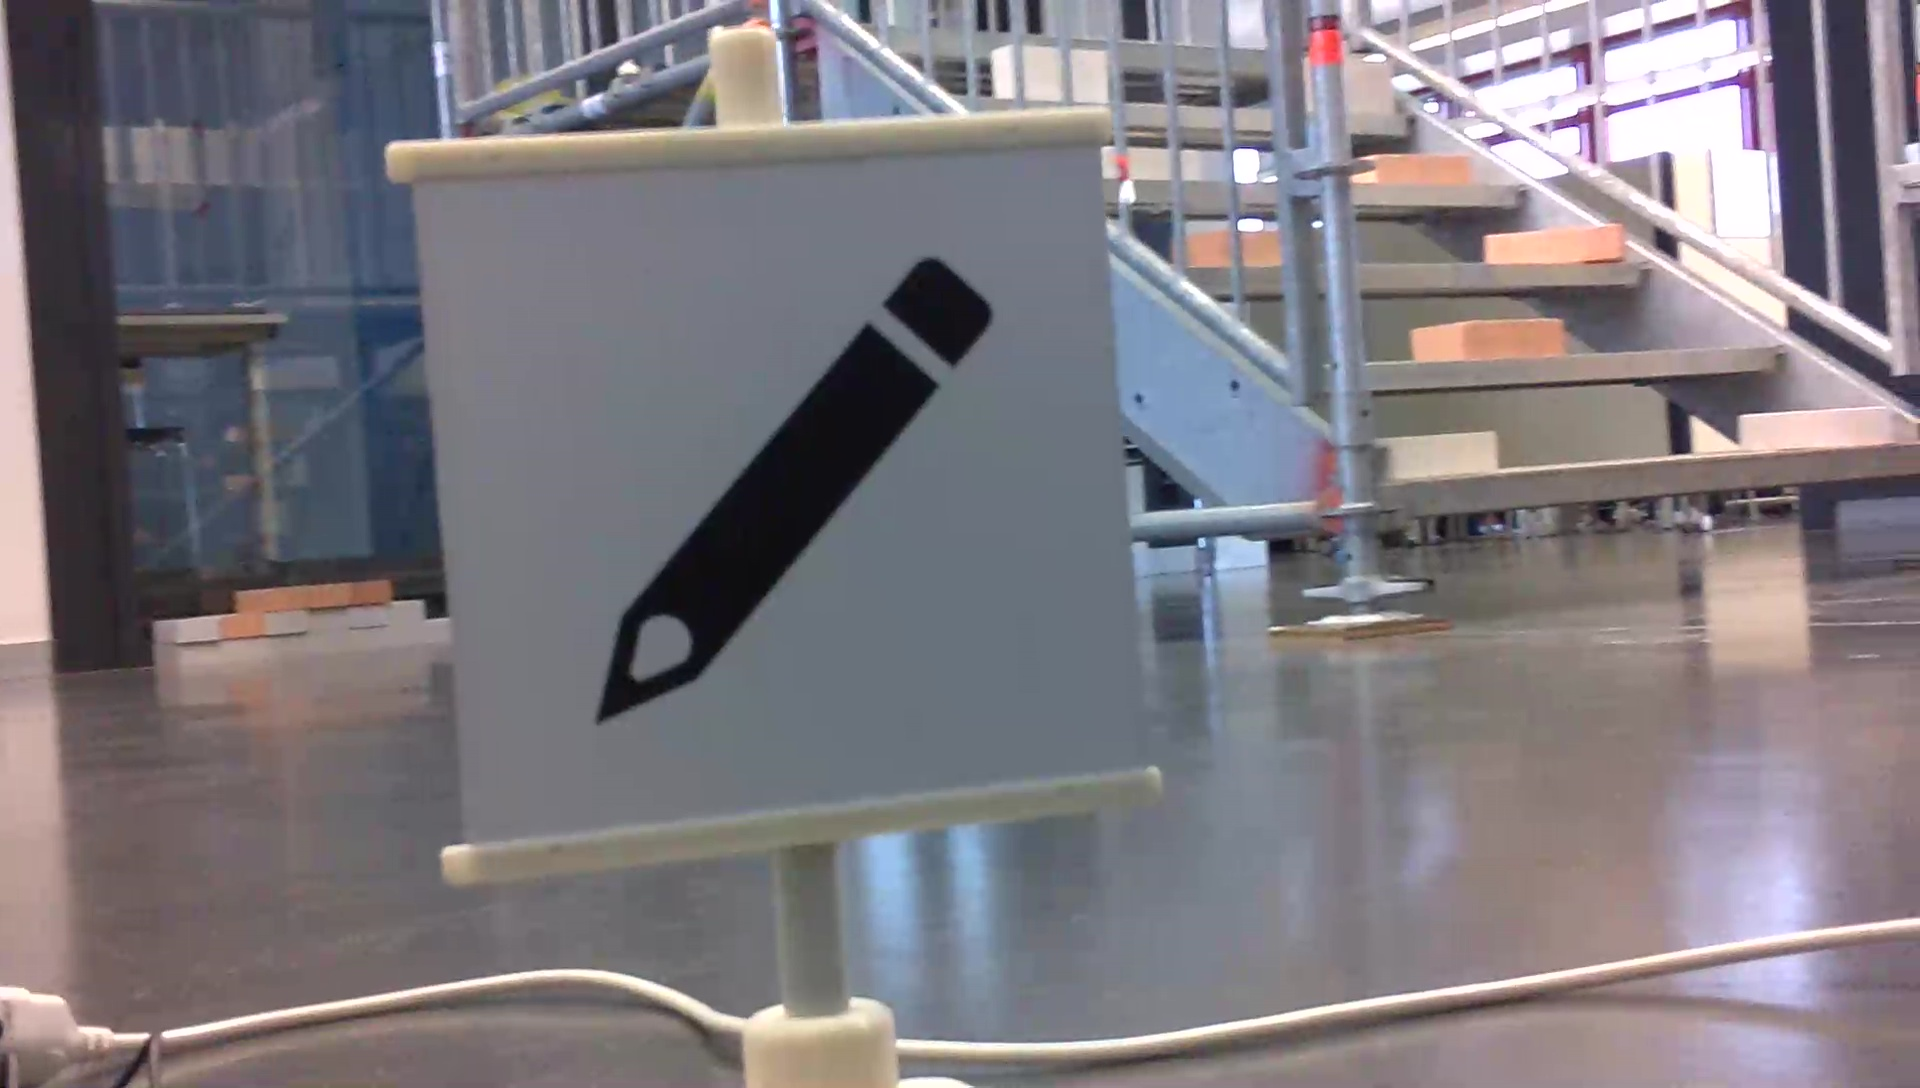brick: (1742, 405, 1894, 450), (1408, 320, 1560, 356), (1489, 223, 1622, 262), (1389, 434, 1489, 476), (1365, 156, 1466, 190), (1342, 61, 1385, 113)
edge: (1395, 446, 1917, 516), (1361, 346, 1784, 390)
pencil: (584, 243, 1005, 732)
stairs: (1261, 3, 1917, 640)
